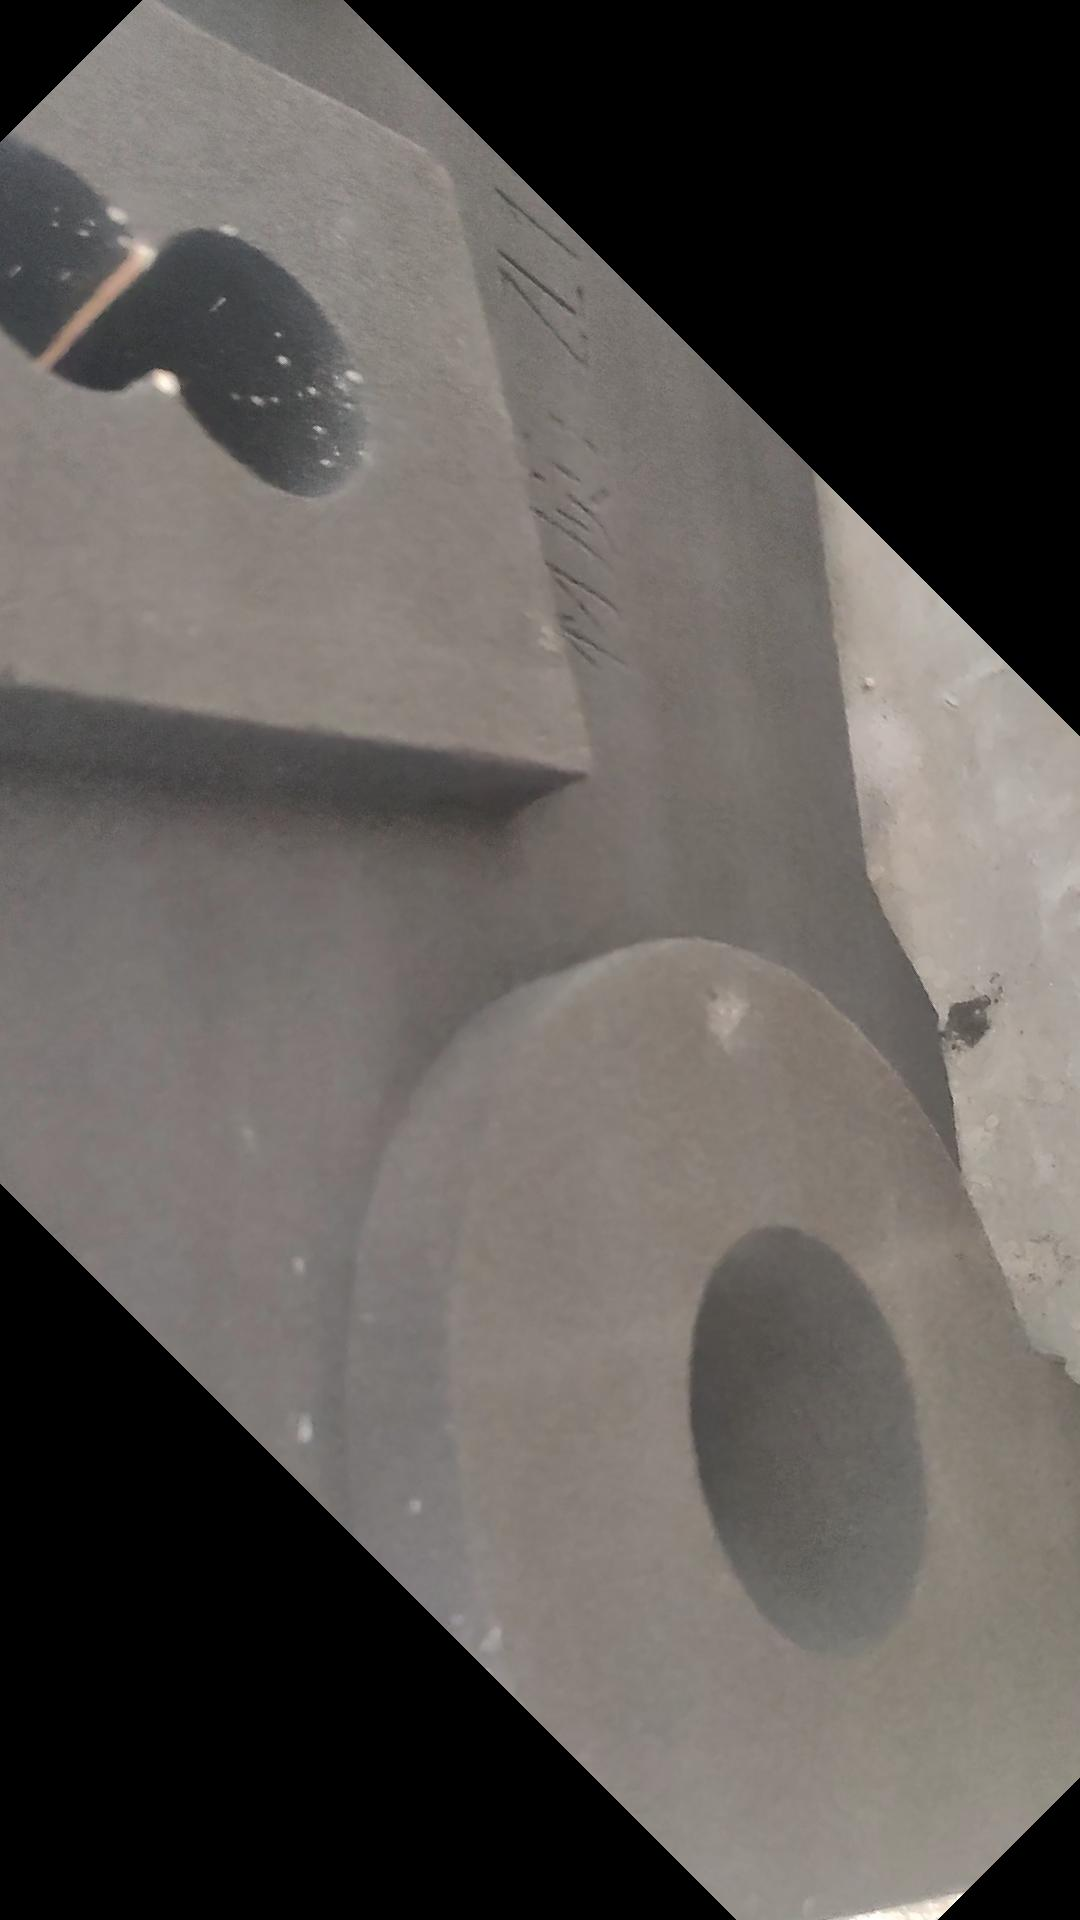pouring hole: (682, 1221, 934, 1662)
